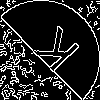K: (25, 25, 82, 81)
